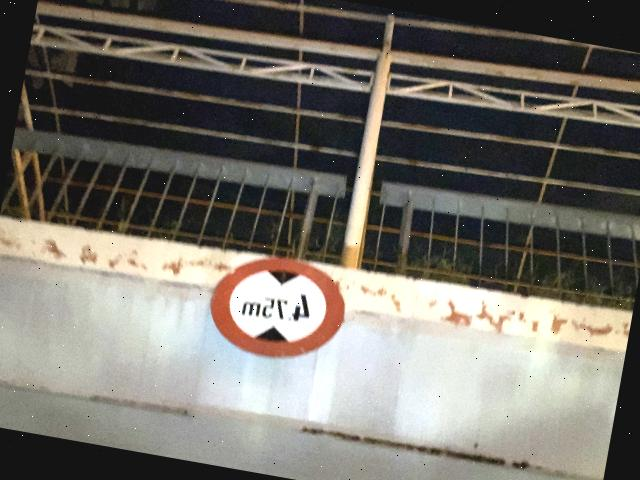han-che-chieu-cao: (200, 245, 352, 369)
